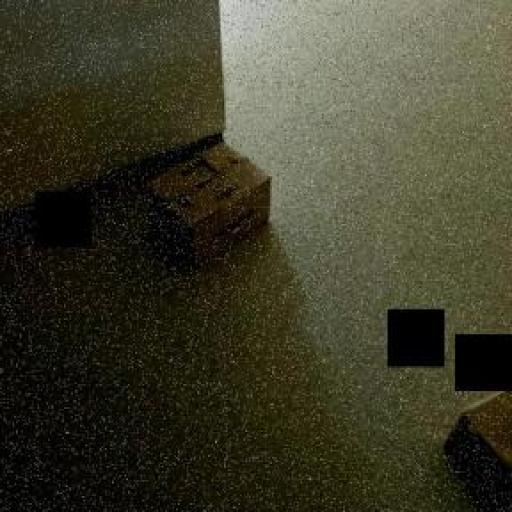box: (137, 120, 281, 275)
